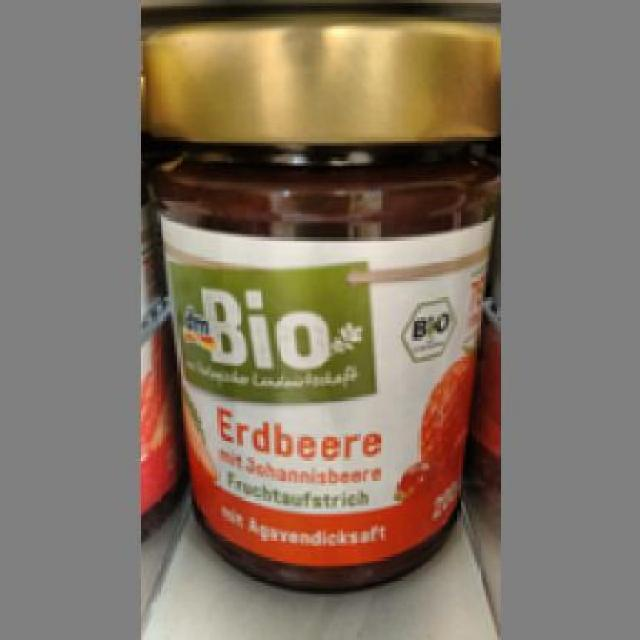Jam: (140, 11, 497, 592)
